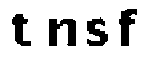f: (113, 6, 143, 49)
n: (43, 16, 79, 52)
s: (84, 17, 109, 49)
t: (10, 11, 32, 50)
